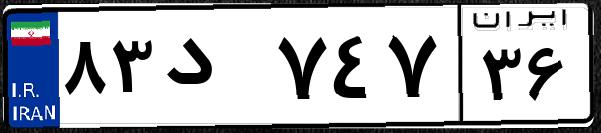3: (475, 38, 525, 113), (110, 28, 158, 98)
4: (330, 28, 385, 110)
6: (525, 38, 570, 115)
7: (270, 28, 330, 110), (385, 28, 445, 110)
8: (57, 26, 110, 100)
د: (158, 20, 270, 120)
